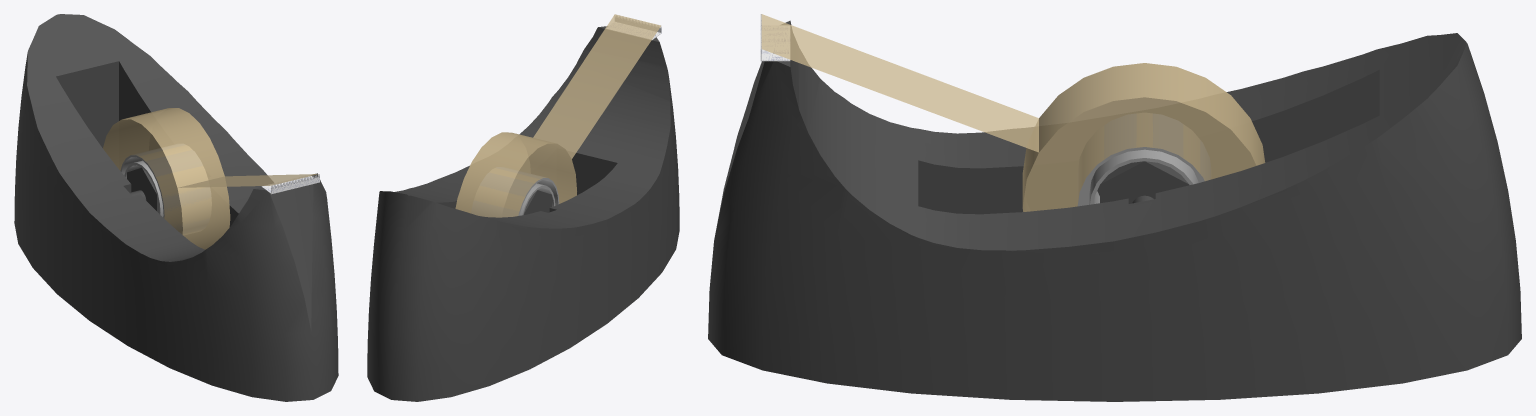
Rendered from Tape Dispenser.dae.
The picture shows the model from 3 angles, left to right: view 1: azimuth 30°, elevation 25°; view 2: azimuth 150°, elevation 25°; view 3: azimuth 270°, elevation 25°; orthographic projection. The views are drawn at different scales.
Visible parts, largest first — view 1: Component_2, group_1 (×2), group_2 (×2), group_4, Component_3, Component_4; view 2: Component_2, group_1 (×2), group_4, group_2, Component_4, Component_3; view 3: Component_2, group_1 (×2), group_4, group_2 (×2), Component_3, Component_4.
Part boxes in pixels (<box>): Component_2: <box>14,14,338,401</box>; group_1 (×2): <box>103,108,230,249</box>; group_2 (×2): <box>120,144,210,233</box>; group_4: <box>178,174,318,187</box>; Component_3: <box>127,167,159,212</box>; Component_4: <box>261,174,319,194</box>; Component_2: <box>367,26,679,401</box>; group_1 (×2): <box>455,132,576,217</box>; group_4: <box>533,14,660,158</box>; group_2: <box>471,167,559,217</box>; Component_4: <box>606,15,661,40</box>; Component_3: <box>523,190,551,214</box>; Component_2: <box>708,20,1521,401</box>; group_1 (×2): <box>1022,63,1265,211</box>; group_4: <box>761,14,1038,152</box>; group_2 (×2): <box>1077,114,1210,206</box>; Component_3: <box>1100,161,1189,203</box>; Component_4: <box>760,14,790,61</box>.
Bounding box in the file's own units: 2.75 × 7.5 × 3.12.
